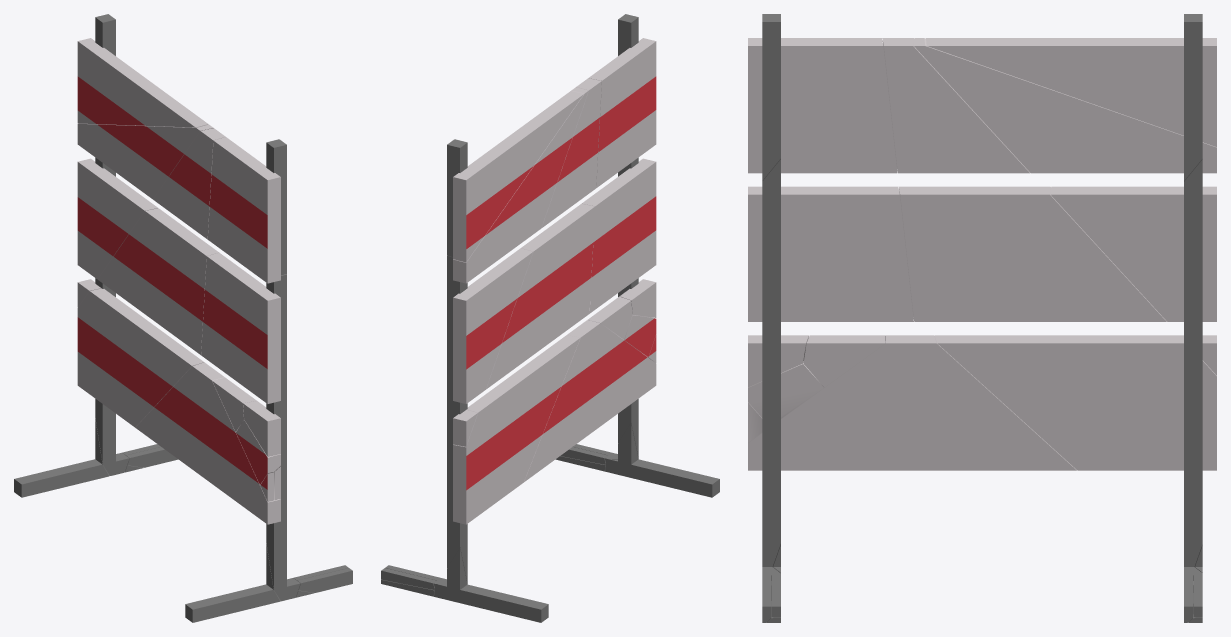
Rendered from barrier_new.fbx.
3 views of the same model, side by side, from view 1: azimuth 30°, elevation 25°; view 2: azimuth 150°, elevation 25°; view 3: azimuth 270°, elevation 25° (orthographic). The views are drawn at different scales.
Visible parts, largest first — view 1: wood_cell.001, wood_cell.007, wood_cell.004, wood_cell.009, wood_cell.002, wood_cell.003, wood_cell, wood_cell.005, wood_cell.008, metal_cell.001, metal_cell.004, metal_cell.002 (+8 smaller); view 2: wood_cell.001, wood_cell.007, wood_cell.004, wood_cell.003, wood_cell.009, wood_cell.005, wood_cell.002, wood_cell, wood_cell.008, metal_cell.003, metal_cell.004, metal_cell.002 (+8 smaller); view 3: wood_cell.007, wood_cell.001, wood_cell.004, wood_cell.009, wood_cell.002, wood_cell, wood_cell.003, wood_cell.005, wood_cell.008, metal_cell.001, metal_cell.003, metal_cell.006 (+4 smaller).
Part boxes in pixels (left/top/right/bottom): wood_cell.001: left=77, top=288, right=203, bottom=427; wood_cell.007: left=98, top=208, right=218, bottom=354; wood_cell.004: left=135, top=362, right=280, bottom=524; wood_cell.009: left=201, top=252, right=280, bottom=403; wood_cell.002: left=208, top=137, right=280, bottom=283; wood_cell.003: left=77, top=38, right=207, bottom=127; wood_cell: left=77, top=123, right=213, bottom=199; wood_cell.005: left=77, top=158, right=157, bottom=279; wood_cell.008: left=153, top=128, right=225, bottom=239; metal_cell.001: left=266, top=274, right=300, bottom=601; metal_cell.004: left=14, top=418, right=117, bottom=497; metal_cell.002: left=185, top=543, right=288, bottom=622; wood_cell.001: left=453, top=335, right=580, bottom=524; wood_cell.007: left=486, top=203, right=595, bottom=389; wood_cell.004: left=524, top=320, right=656, bottom=481; wood_cell.003: left=453, top=91, right=583, bottom=262; wood_cell.009: left=582, top=158, right=656, bottom=313; wood_cell.005: left=453, top=248, right=532, bottom=403; wood_cell.002: left=588, top=38, right=656, bottom=187; wood_cell: left=453, top=87, right=588, bottom=283; wood_cell.008: left=541, top=78, right=601, bottom=227; metal_cell.003: left=433, top=256, right=467, bottom=587; metal_cell.004: left=434, top=548, right=548, bottom=622; metal_cell.002: left=605, top=423, right=719, bottom=497; wood_cell.007: left=899, top=186, right=1166, bottom=321; wood_cell.001: left=934, top=335, right=1216, bottom=470; wood_cell.004: left=748, top=335, right=1076, bottom=470; wood_cell.009: left=748, top=186, right=913, bottom=321; wood_cell.002: left=748, top=38, right=897, bottom=173; wood_cell: left=914, top=38, right=1216, bottom=173; wood_cell.003: left=926, top=38, right=1216, bottom=146; wood_cell.005: left=1050, top=186, right=1216, bottom=321; wood_cell.008: left=882, top=38, right=1029, bottom=173; metal_cell.001: left=762, top=159, right=780, bottom=580; metal_cell.003: left=1184, top=159, right=1202, bottom=580; metal_cell.006: left=762, top=14, right=780, bottom=180.
Bounding box in the file's own units: 97.24 × 264 × 200.
